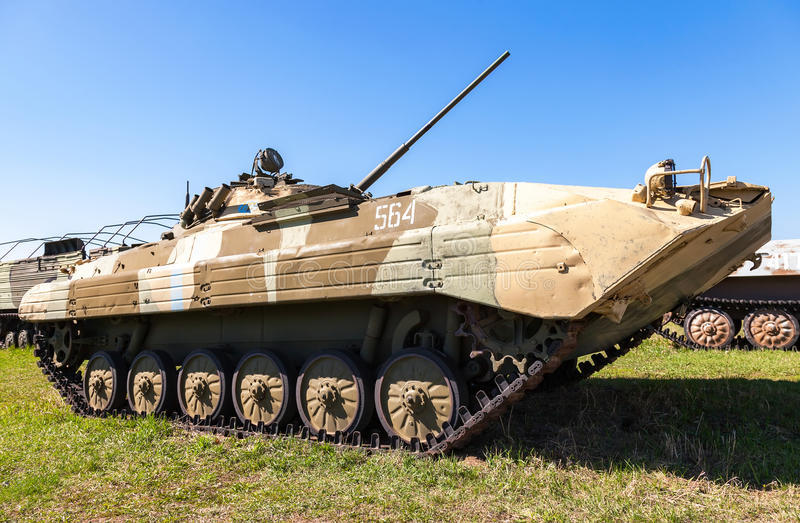bmp: (21, 175, 769, 449)
